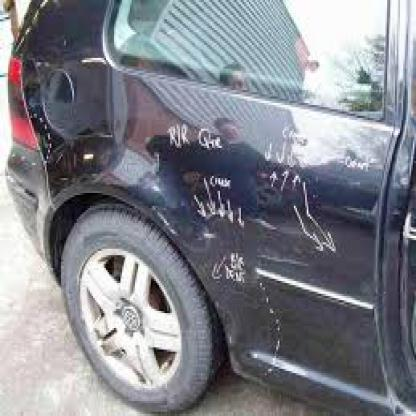dent: (98, 75, 154, 187)
